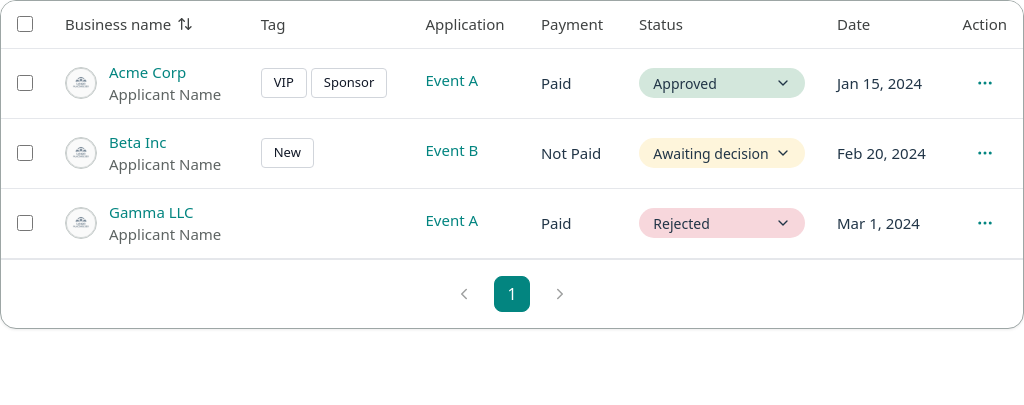
Test case: Table › shows bulk bar when rows are selected
Click the checkbox named "select acme corp": (25, 83) [17,75,33,91]
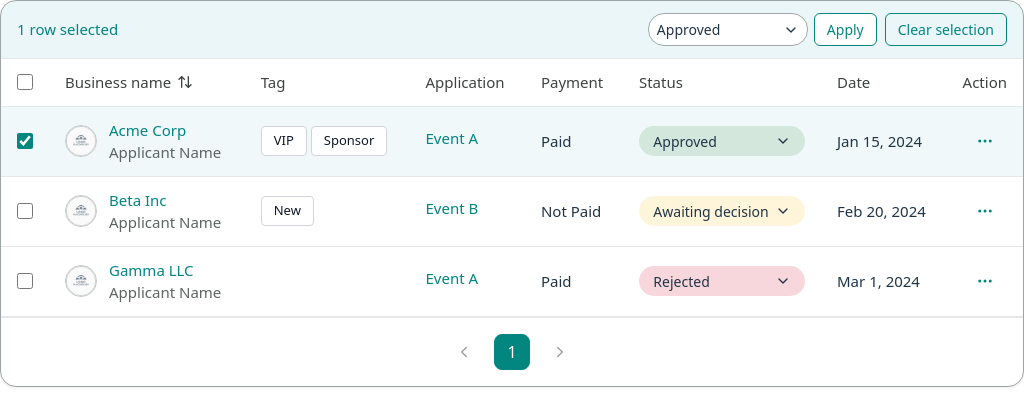
Now the element named "bulk actions" is shown, box [1,1,1023,59]
Now the text "1 row selected" is shown, box [17,18,118,41]
Now the button "Clear selection" is shown, box [885,13,1007,46]
